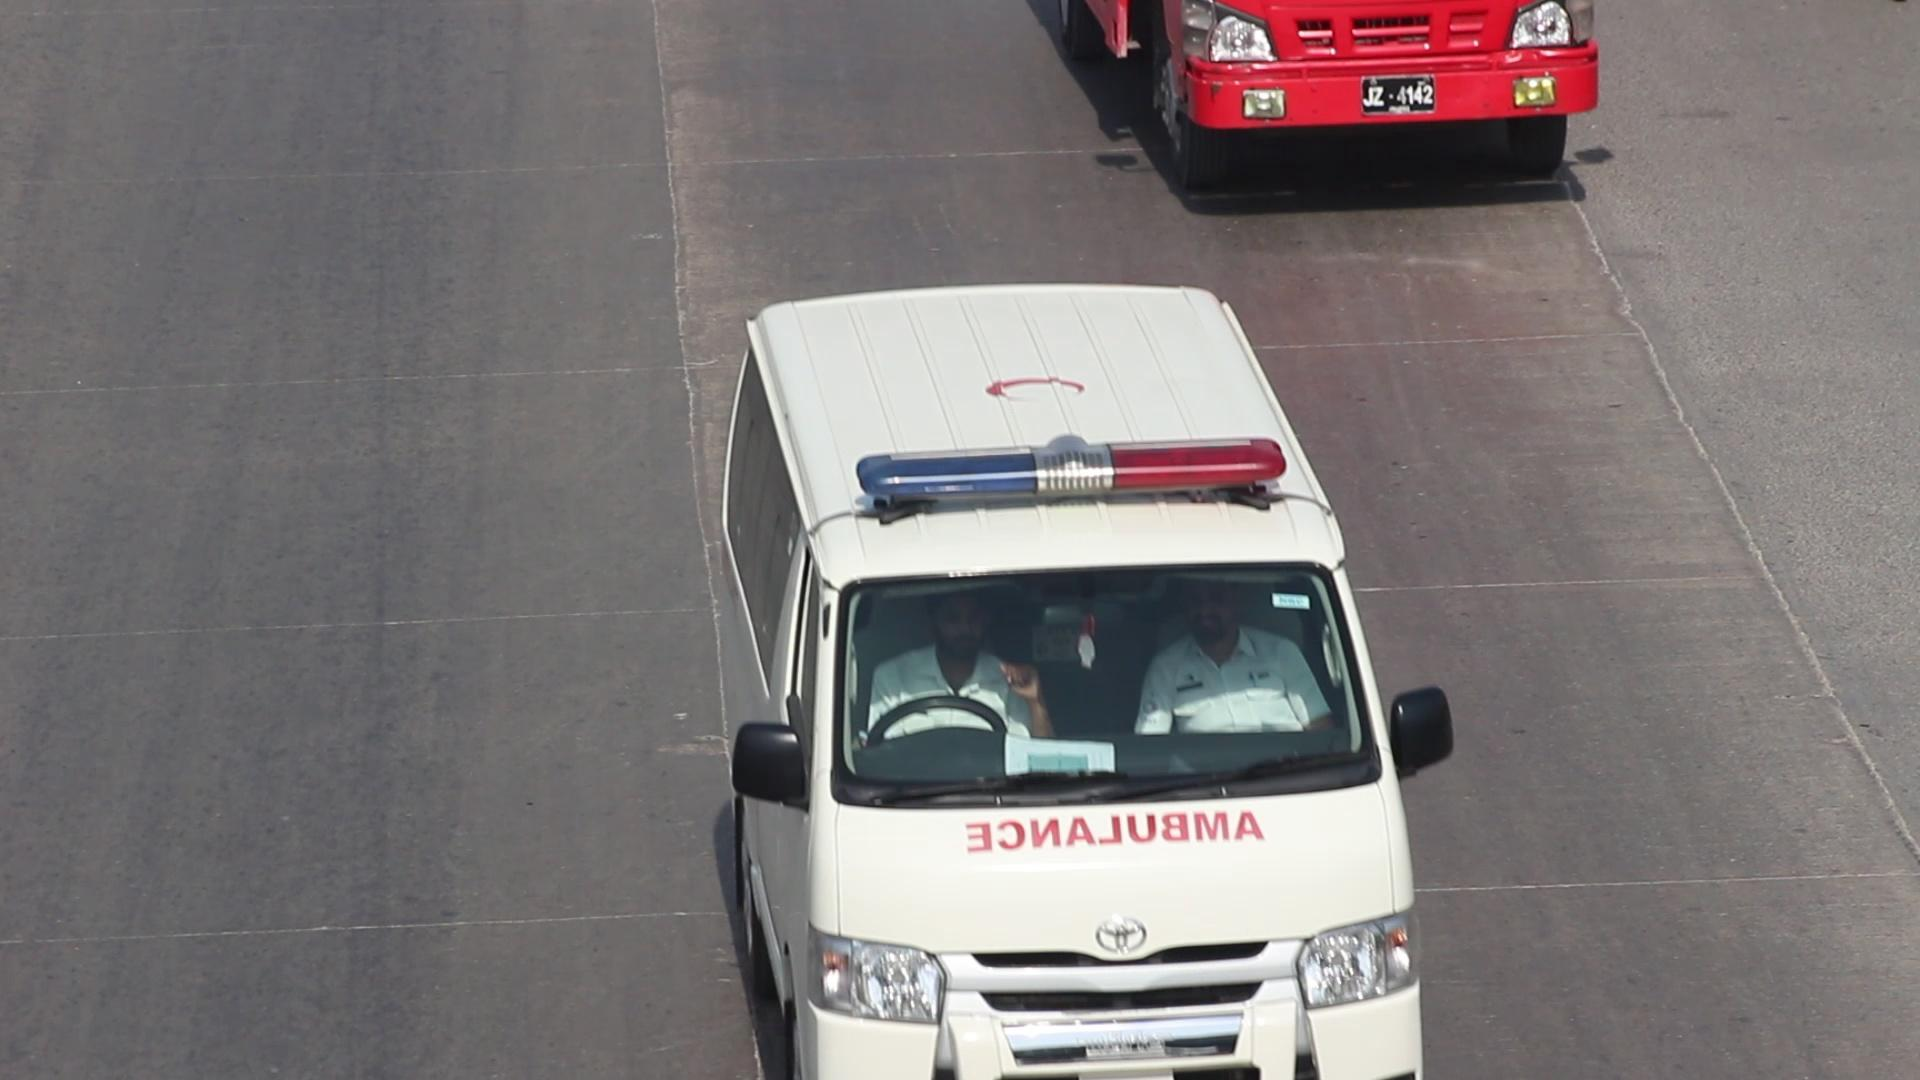windshield: (831, 547, 1411, 829)
